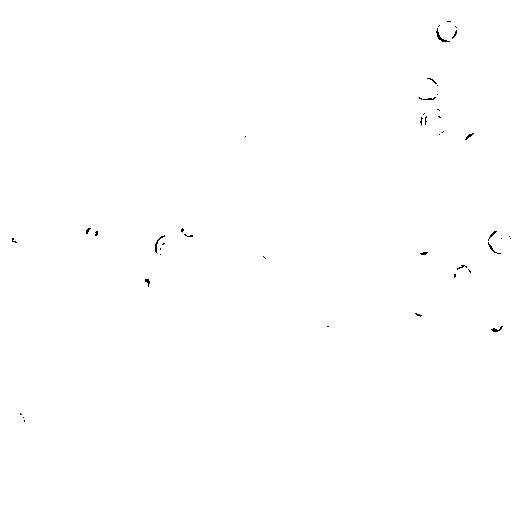micro-algae: (66, 115, 161, 215), (353, 36, 443, 124), (53, 71, 131, 146), (233, 0, 315, 67), (426, 68, 491, 131), (81, 261, 121, 301), (224, 249, 258, 287), (237, 397, 269, 429), (419, 107, 452, 137), (390, 283, 421, 313), (153, 230, 181, 263), (40, 50, 67, 84), (299, 9, 333, 35), (146, 142, 175, 172), (333, 426, 359, 454), (197, 409, 224, 435), (223, 145, 250, 171), (307, 309, 337, 332), (487, 226, 510, 255), (435, 18, 459, 45), (415, 77, 441, 100), (141, 255, 165, 279), (410, 295, 435, 318), (463, 130, 488, 152), (237, 0, 260, 23), (463, 62, 488, 83), (178, 167, 200, 190), (487, 105, 509, 128), (452, 263, 472, 287), (176, 220, 201, 239), (446, 459, 469, 479), (241, 129, 260, 151), (8, 411, 27, 432), (265, 226, 286, 245), (485, 315, 506, 333), (52, 281, 71, 299), (7, 227, 28, 243), (63, 500, 90, 512), (353, 11, 371, 29), (341, 286, 359, 302), (84, 225, 102, 239), (262, 247, 279, 261), (137, 277, 151, 290), (416, 241, 428, 256)
